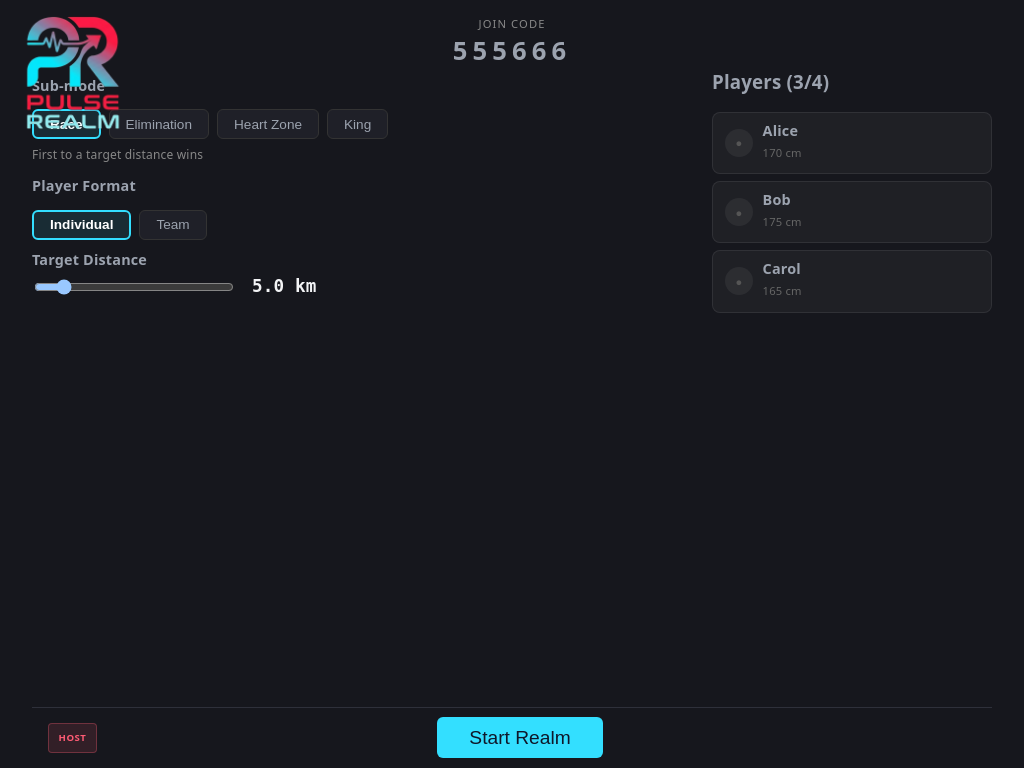
Test: CompetitionLobby › sub-mode selector › can switch to King sub-mode
The image size is (1024, 768).
Click the button "King". click: coordinates (358, 124)
box: top-left (327, 109), bottom-right (388, 139)
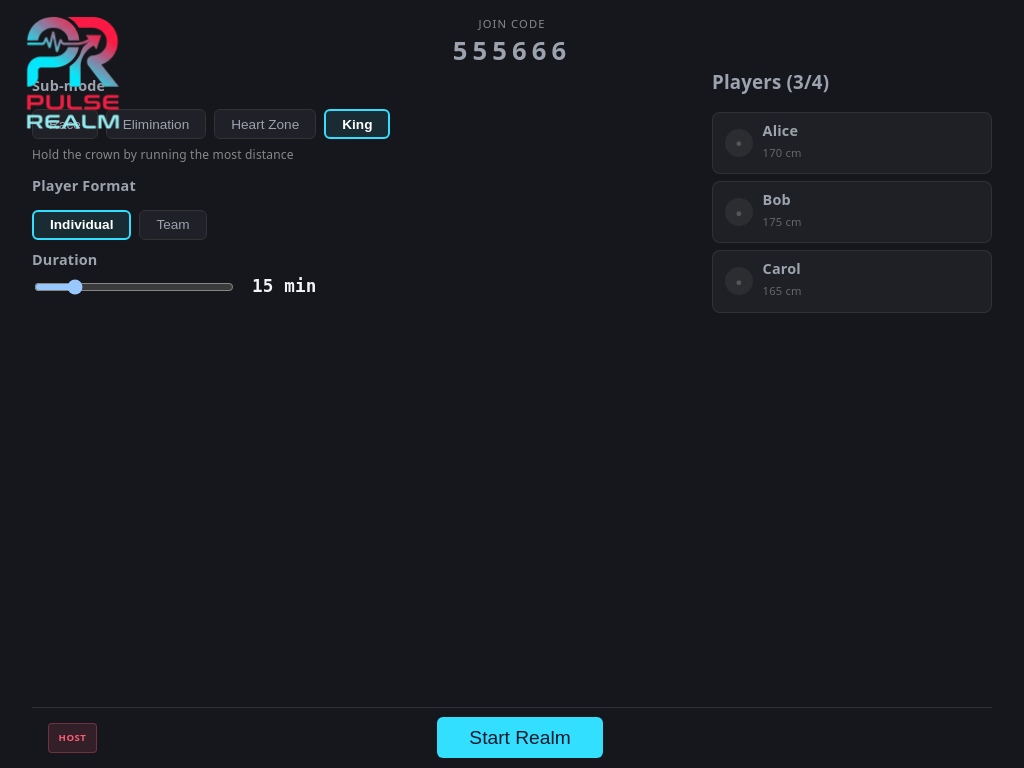
Expected: the heading "Duration" is shown, top-left (32, 250), bottom-right (98, 269)
